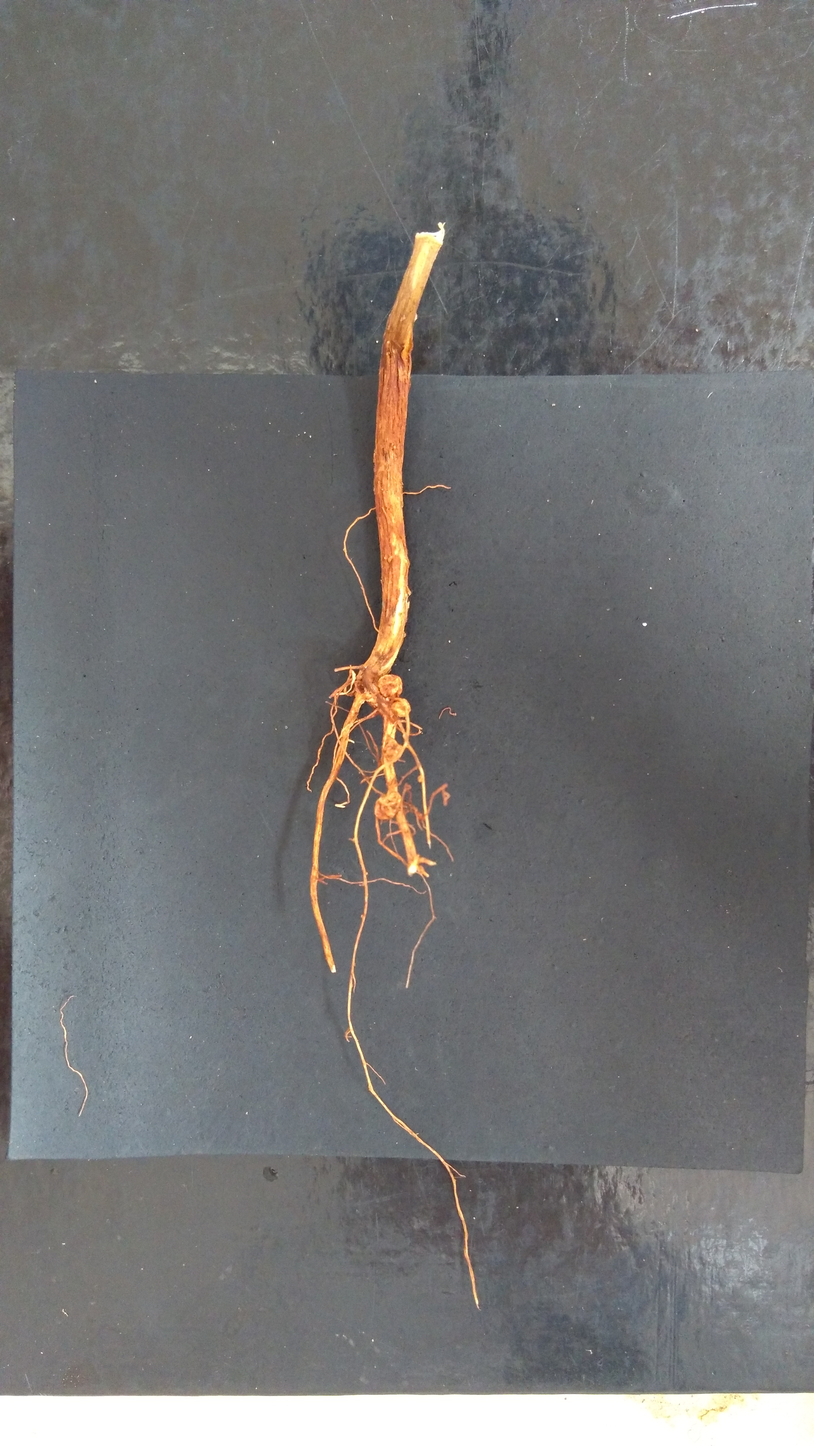nodule: (374, 791, 402, 821), (377, 674, 403, 699), (382, 735, 405, 763), (390, 697, 412, 718), (364, 681, 380, 703), (354, 679, 367, 695), (417, 774, 424, 782), (403, 630, 406, 638)
